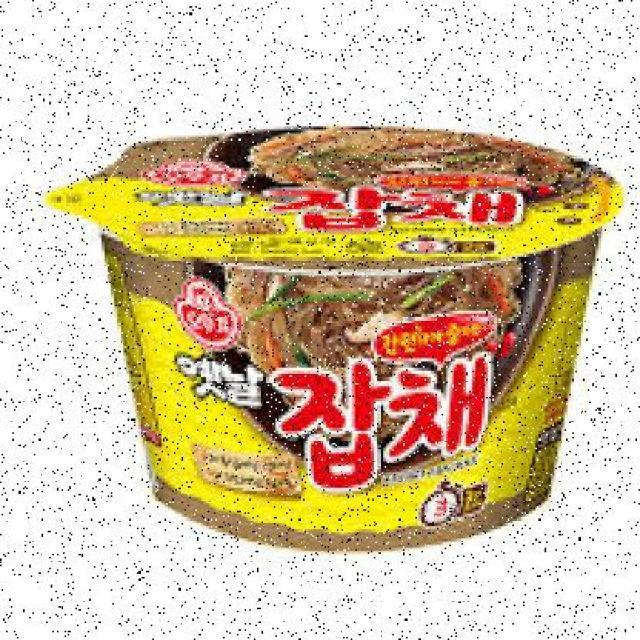Miscellaneous: (113, 131, 616, 554)
